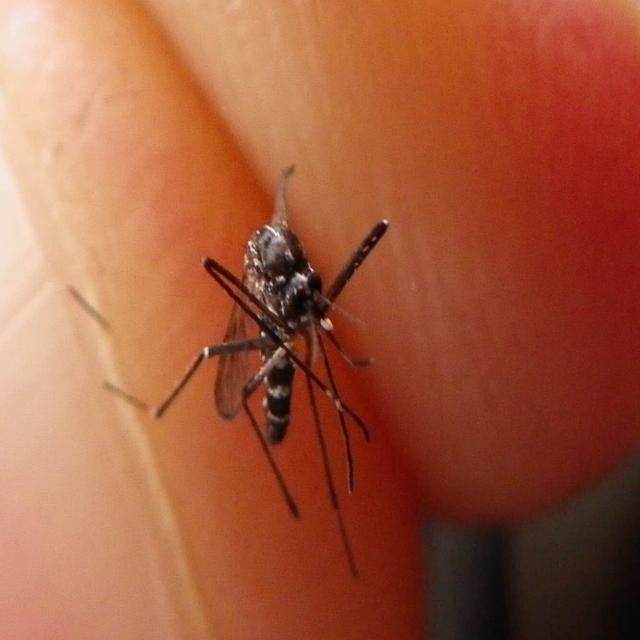albopictus: (121, 161, 412, 524)
